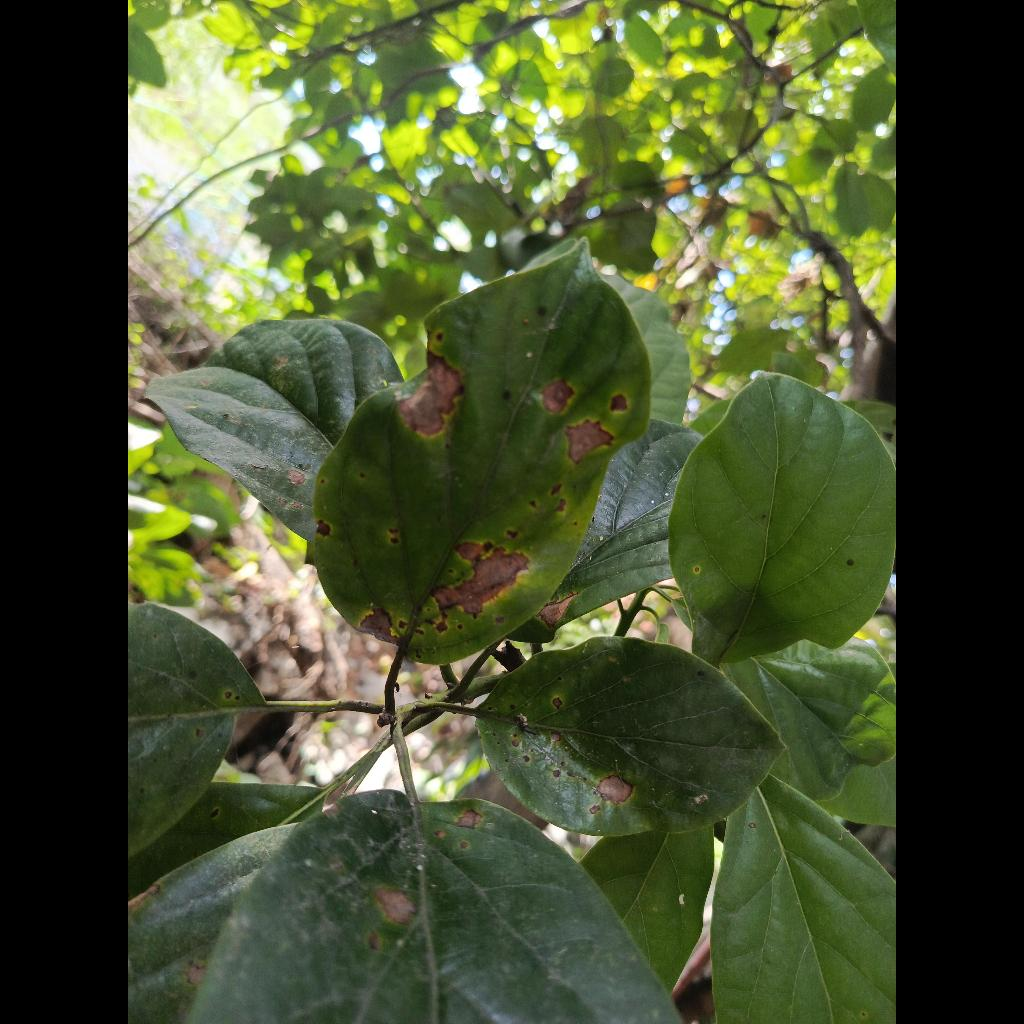antracnosis_hoja: (310, 241, 651, 664)
